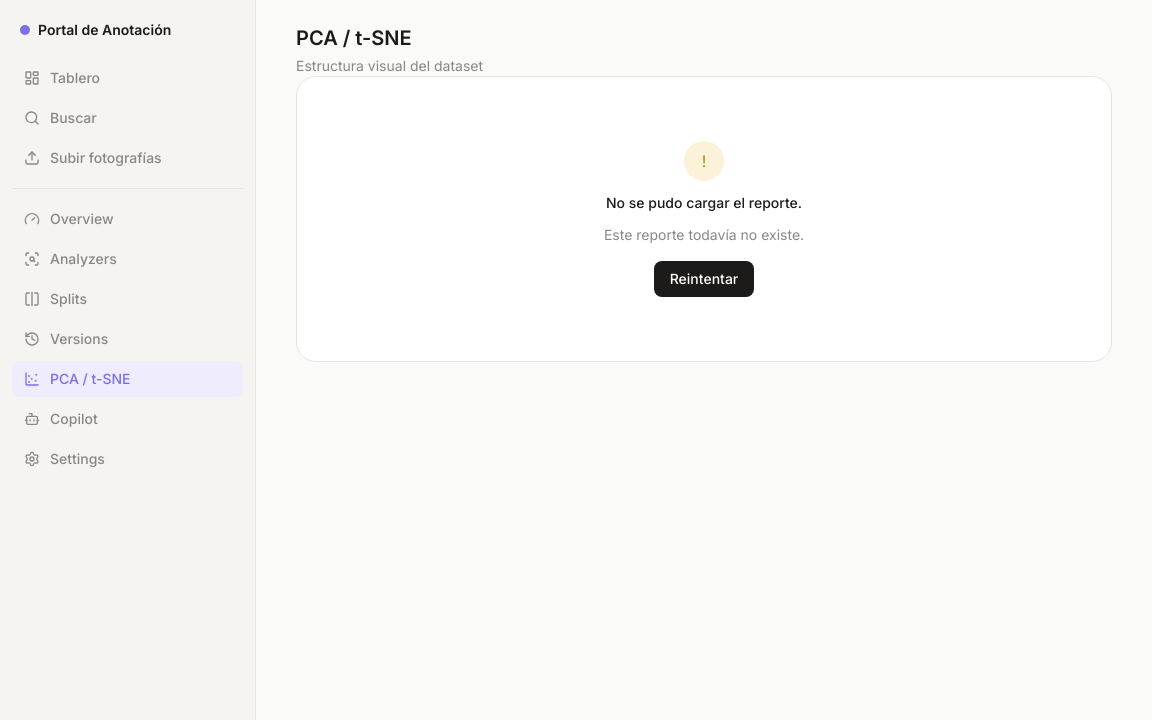
Scenario: reports HTTP 404 and retries without fixture fallback
expect the text "No se pudo cargar el reporte." is shown: met, box [606,193,802,213]
expect the field labelled "Método" is not shown: met
Click the button "Reintentar". click: [704, 279]
box: [654,261,754,297]
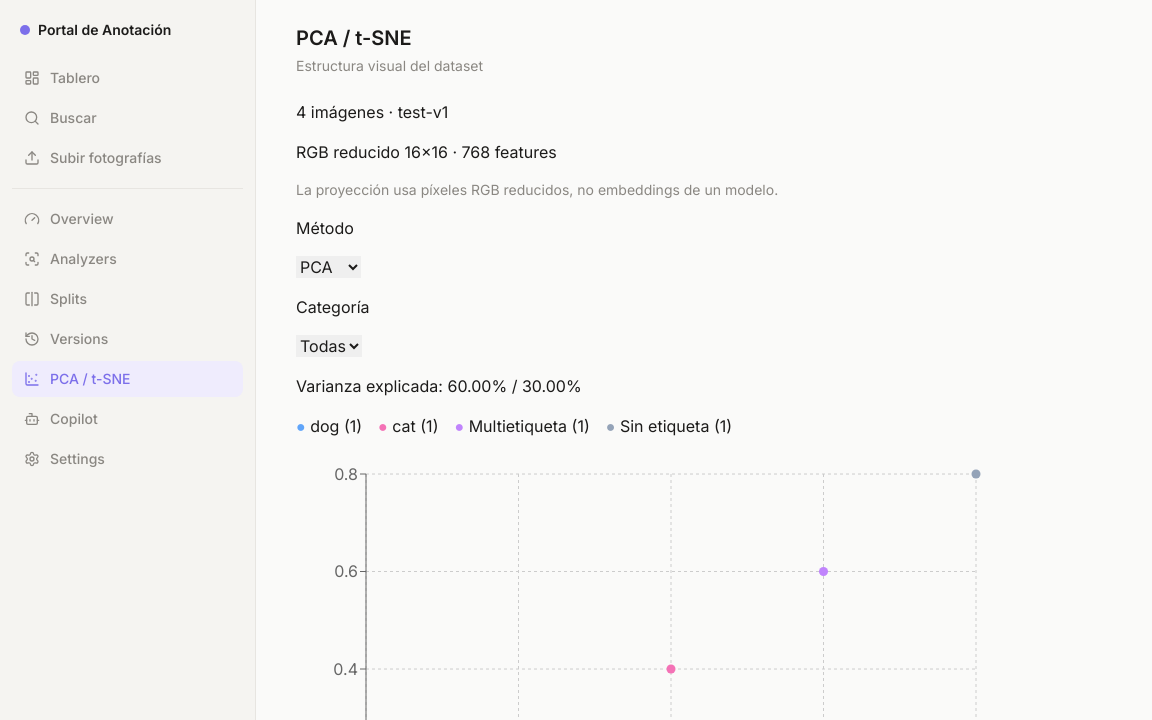
expect the text "4 imágenes · test-v1" is shown: met, box [296,102,448,122]
